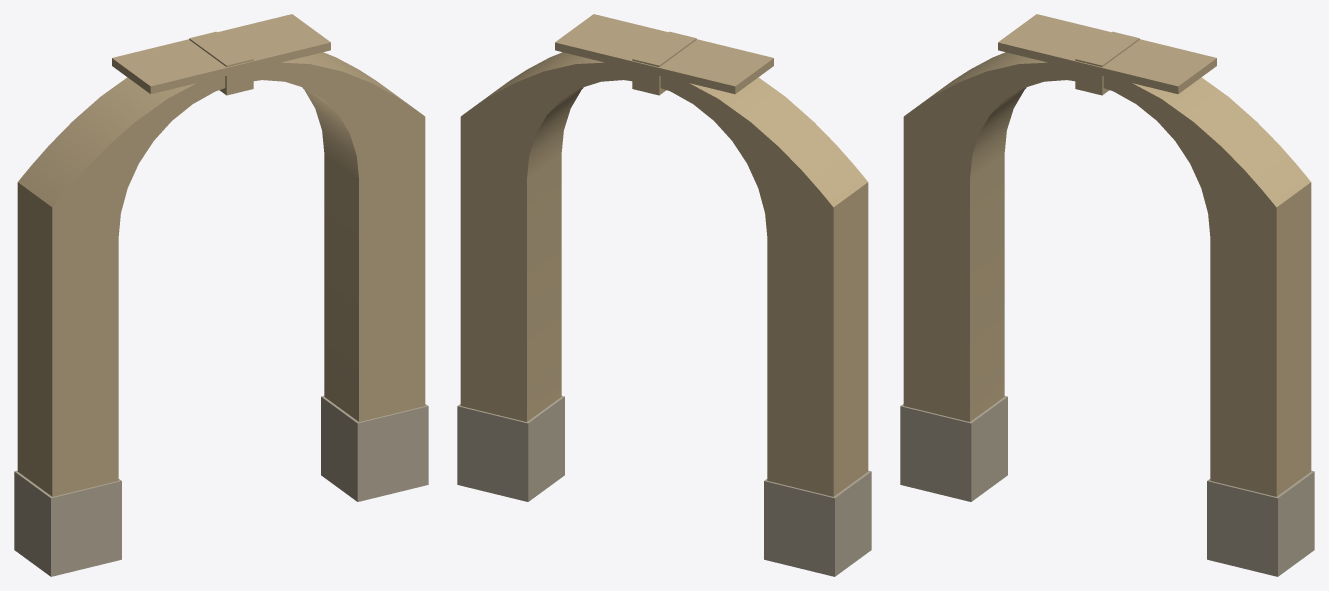
Rendered from Kit_StoneArch.glb.
The picture shows the model from 3 angles, left to right: view 1: azimuth 30°, elevation 25°; view 2: azimuth 150°, elevation 25°; view 3: azimuth 330°, elevation 25°; orthographic projection.
Visible parts, largest first — view 1: Kit_StoneArch; view 2: Kit_StoneArch; view 3: Kit_StoneArch.
Part boxes in pixels (<box>): Kit_StoneArch: <box>14,14,428,576</box>; Kit_StoneArch: <box>457,14,871,576</box>; Kit_StoneArch: <box>900,14,1314,576</box>.
Bounding box in the file's own units: 126 × 149 × 22.4.
